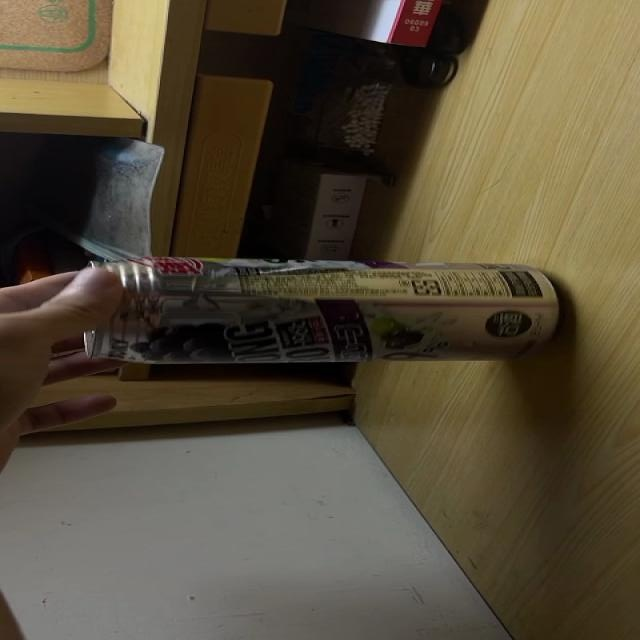Liquor: (76, 260, 566, 365)
